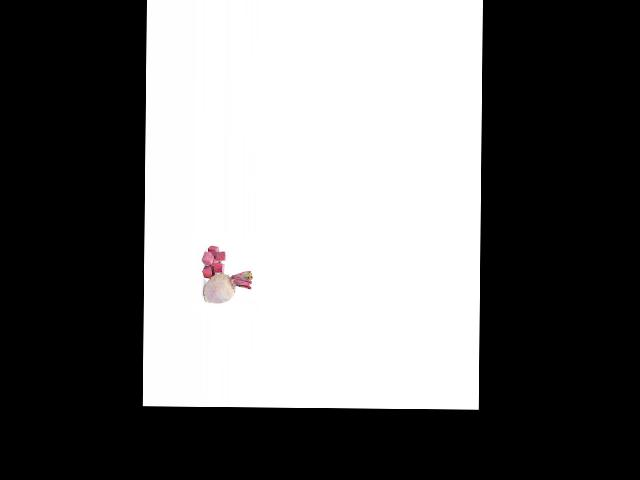beet: (202, 269, 252, 303)
